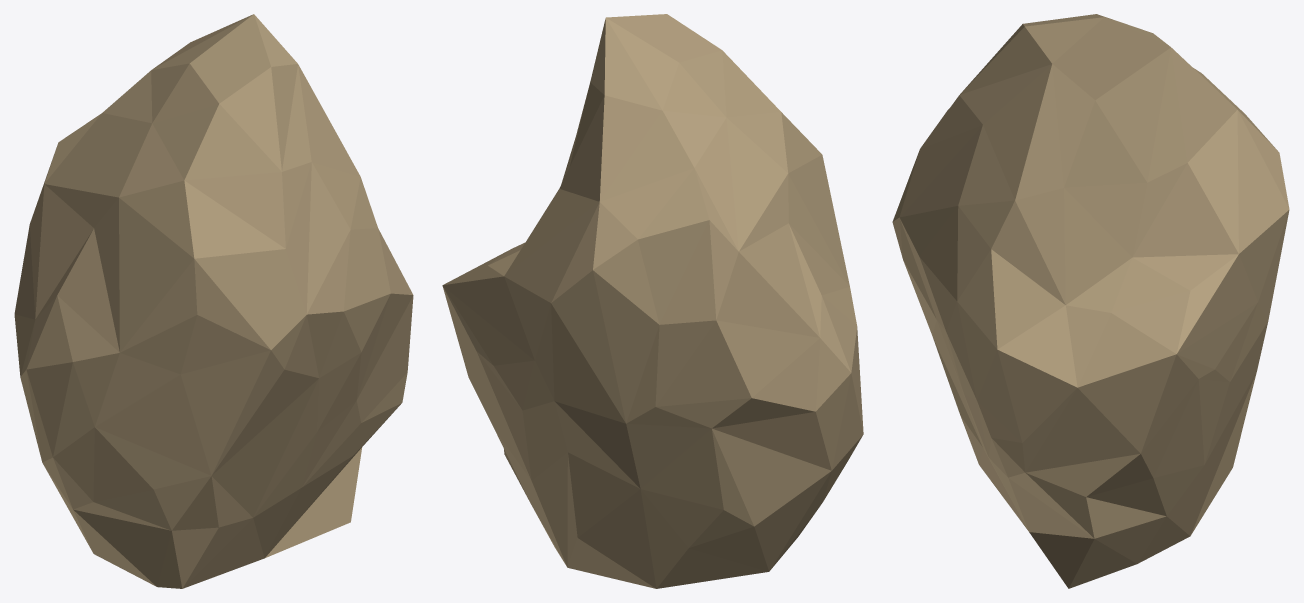
Rendered from Mountain_1.fbx.
3 renders of one model, left to right at view 1: azimuth 30°, elevation 25°; view 2: azimuth 150°, elevation 25°; view 3: azimuth 270°, elevation 25°, orthographic. The views are drawn at different scales.
Parts seen in each view (by area): view 1: mountain1; view 2: mountain1; view 3: mountain1.
Part boxes in pixels (x1,y1,x2,y2): mountain1: (14,14,413,588); mountain1: (442,14,863,588); mountain1: (892,14,1289,588).
Bounding box in the file's own units: 11.21 × 15.14 × 10.25.
